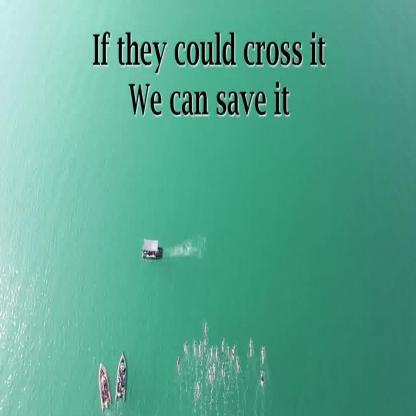Boat: (114, 355, 130, 401), (96, 364, 112, 410)
